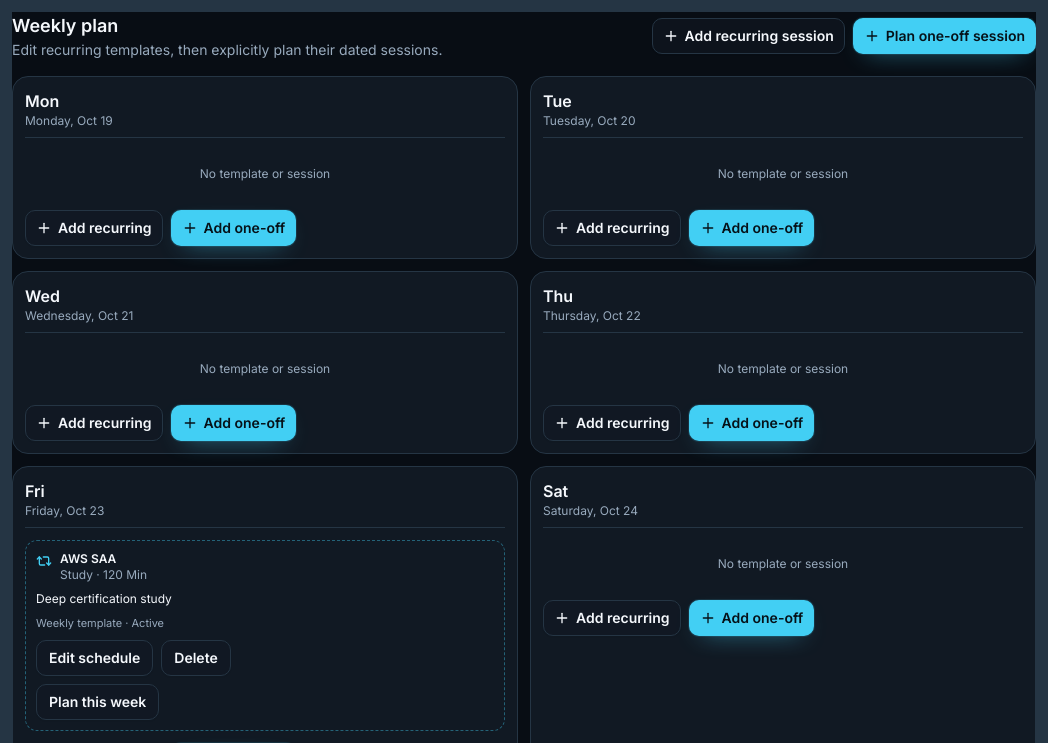
Test: Learning execution views › materializes a weekly template only after the planning response
Expected: the text "Deep certification study" is shown, 36,591 -> 172,606
Expected: the text "No new sessions created" is not shown
Click the button "Plan this week": [98, 702] box 36,684 -> 159,720
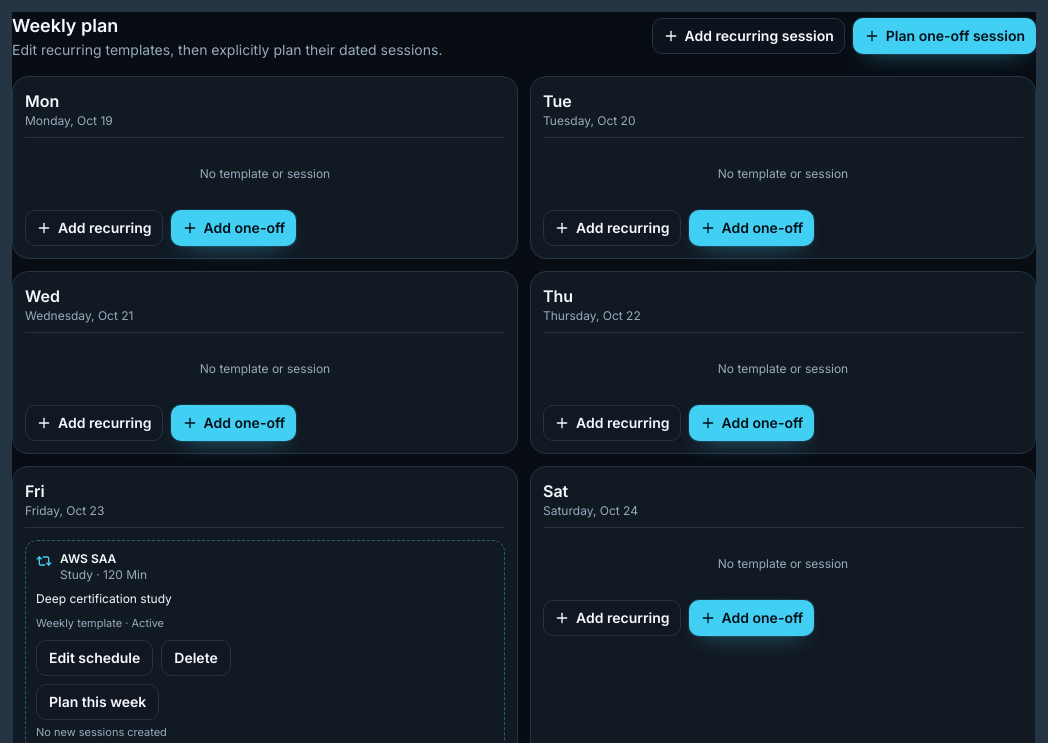
Result: the text "No new sessions created" is shown at 36,724 -> 167,738
